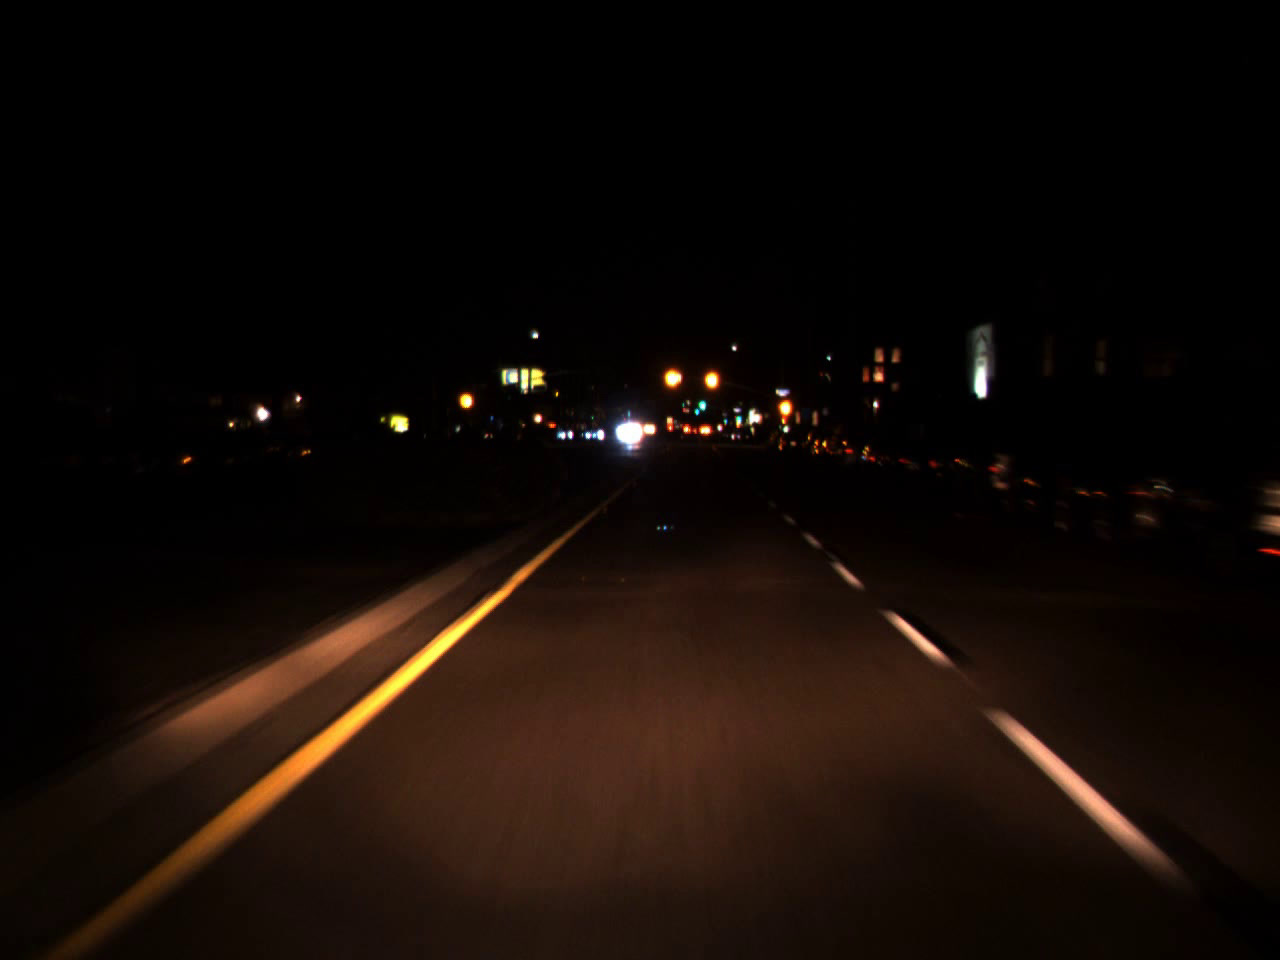go: (695, 390, 707, 411), (735, 410, 742, 422)
warning: (661, 356, 683, 398), (701, 358, 722, 400), (456, 382, 475, 417), (775, 390, 794, 422)
